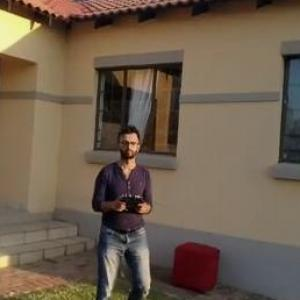follow: (93, 122, 171, 299)
